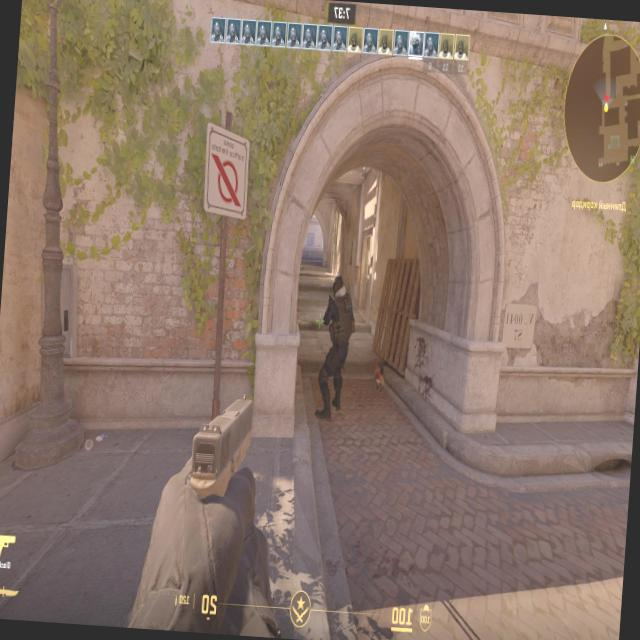CT: (314, 269, 360, 421)
CT_heat: (332, 276, 344, 296)
